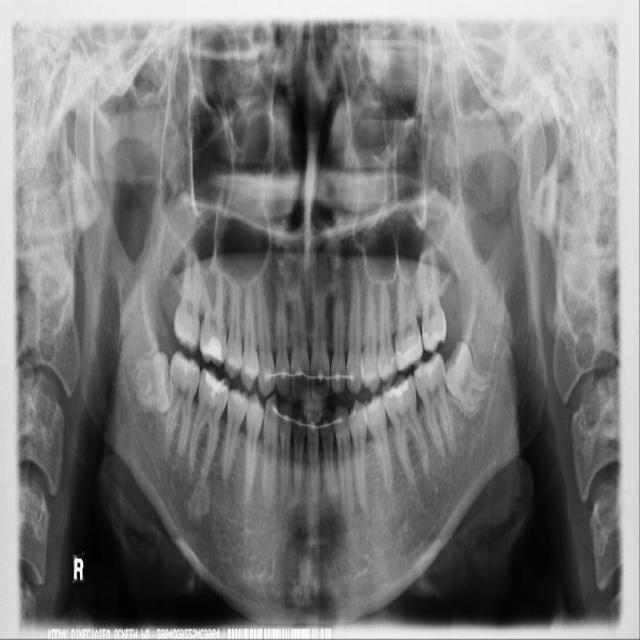Filling: (203, 370, 228, 396), (393, 345, 421, 366), (201, 335, 224, 360), (386, 378, 409, 399), (422, 333, 437, 352), (379, 363, 394, 377)
Periapical lesion: (353, 488, 378, 529), (186, 478, 209, 519), (443, 440, 460, 459)
impacted tooth: (445, 342, 494, 411), (125, 353, 169, 411)
